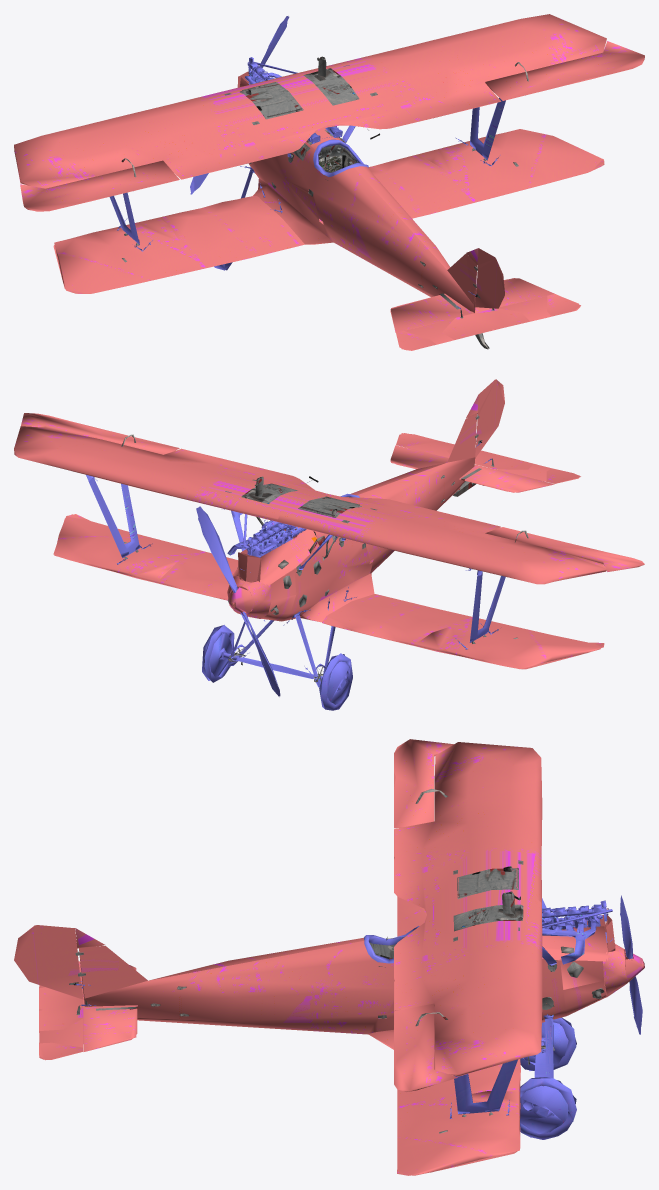
Rendered from biplane2.glb.
The picture shows the model from 3 angles, top to bottom: view 1: azimuth 30°, elevation 25°; view 2: azimuth 150°, elevation 25°; view 3: azimuth 270°, elevation 25°; orthographic projection. The views are drawn at different scales.
Parts seen in each view (by area): view 1: objobjcleanermaterialmergergles, prop, prop.001; view 2: objobjcleanermaterialmergergles, prop, prop.001; view 3: objobjcleanermaterialmergergles, prop, prop.001.
Part boxes in pixels (x1,y1,x2,y2): objobjcleanermaterialmergergles: (14,14,644,350); prop: (109,33,505,270); prop.001: (190,16,289,194); objobjcleanermaterialmergergles: (14,379,644,682); prop: (86,475,505,710); prop.001: (196,506,280,696); objobjcleanermaterialmergergles: (14,739,644,1175); prop: (364,898,637,1139); prop.001: (620,895,642,1034).
Size of the model in its own units: 8.38 by 2.62 by 6.35.
6 materials, 6 textured.
